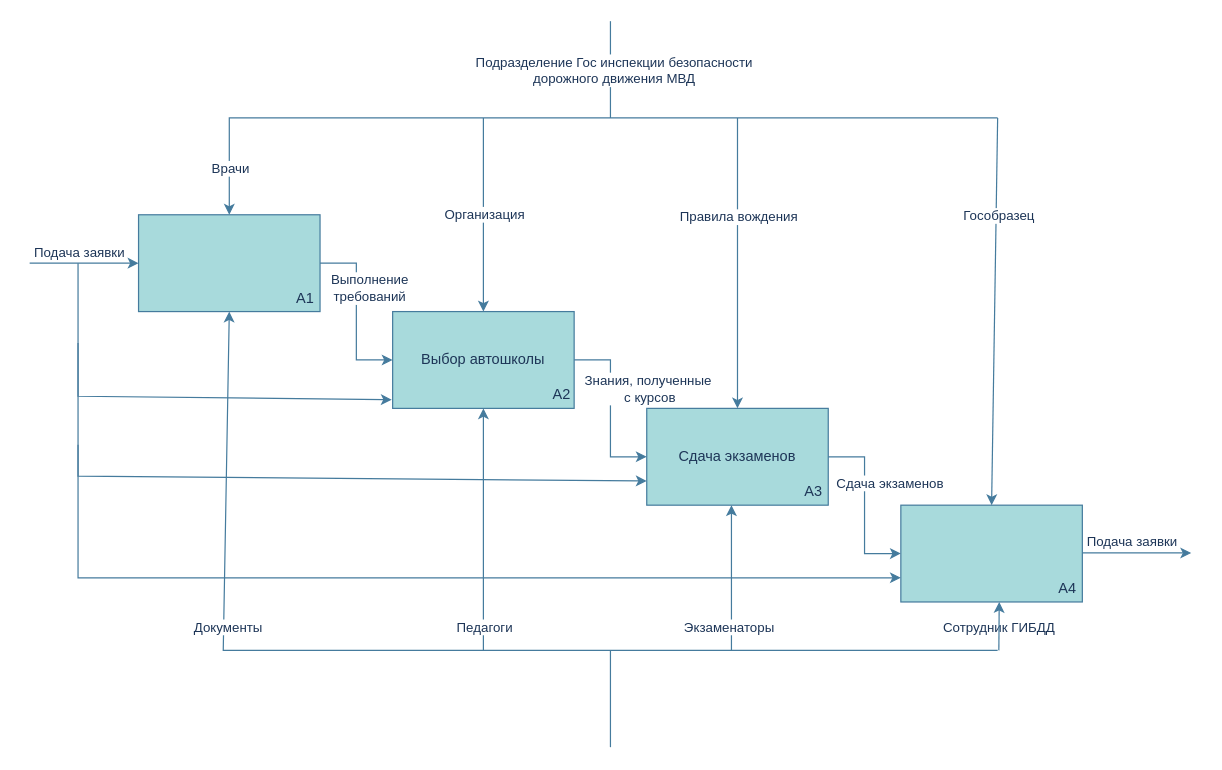
Image size: 1222x770. Some labels were removed from this diagram. The shapes that lost their labels are listed below. From the top down, each one's box as (x1, y1, x2, y2) in pixels, then its label:
(137, 214, 320, 312): Пройти медкомиссию
(900, 504, 1082, 602): Получение водительского удостоверения
